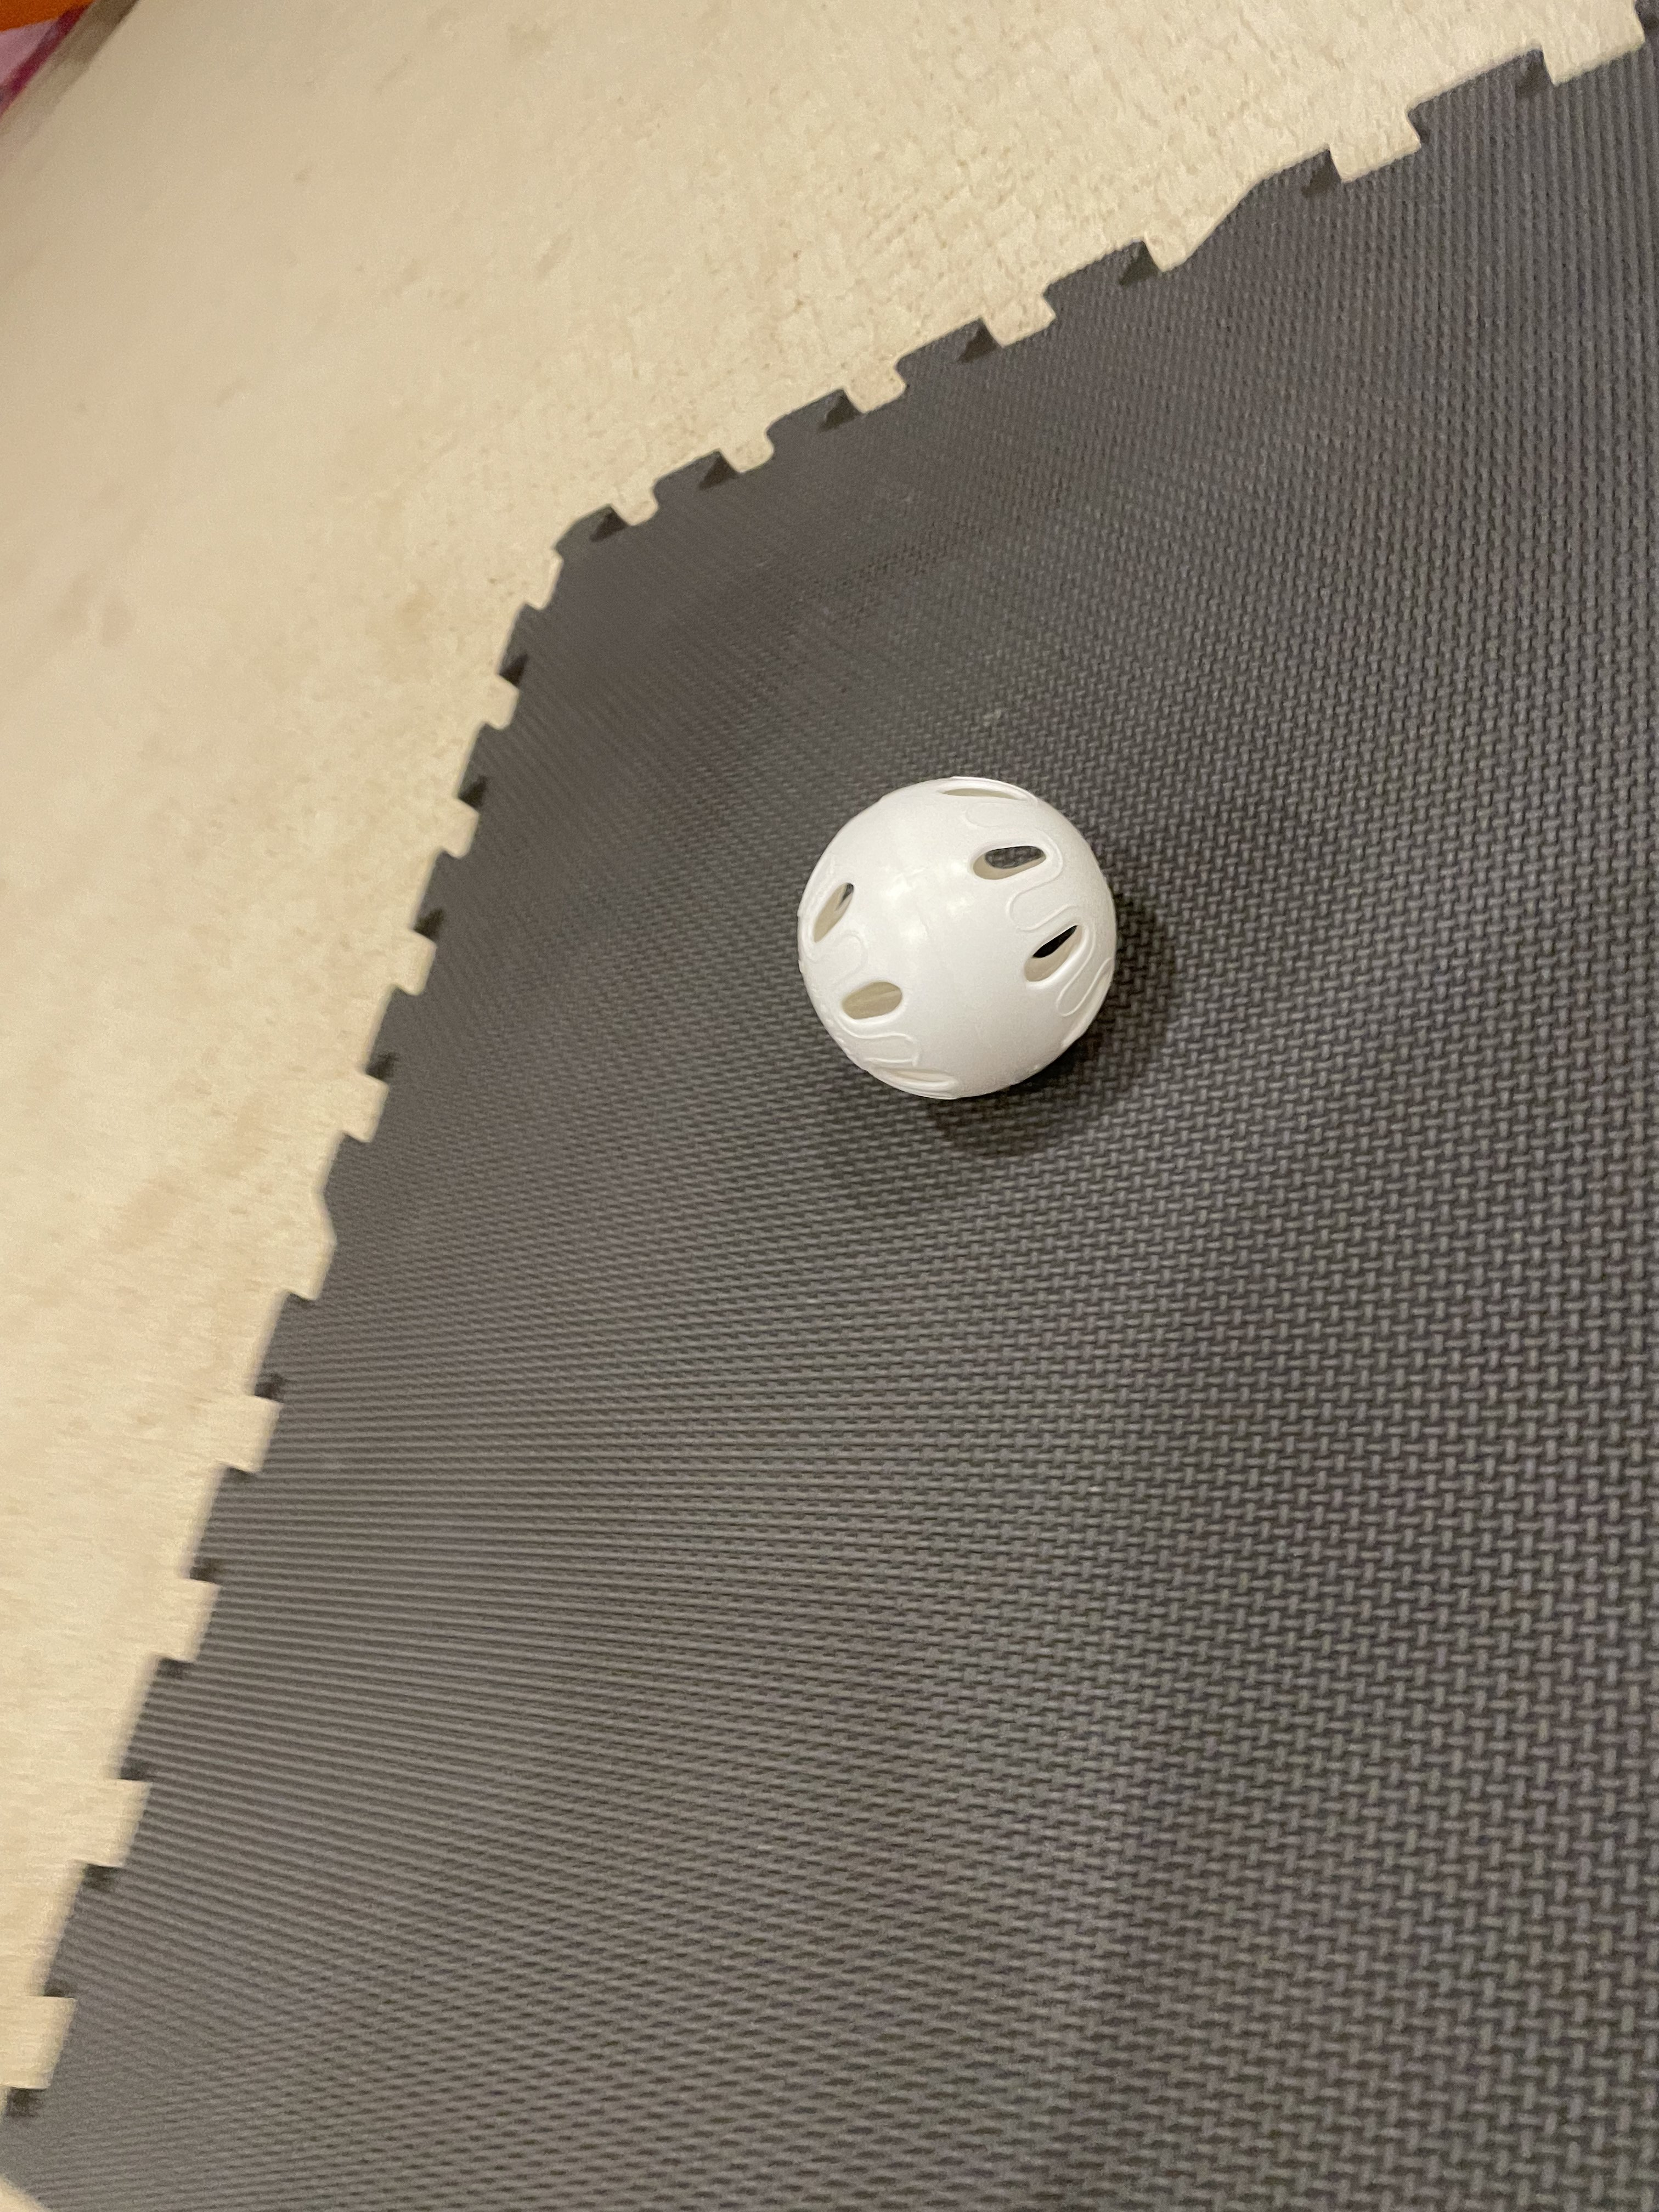ball: (786, 752, 1155, 1122)
